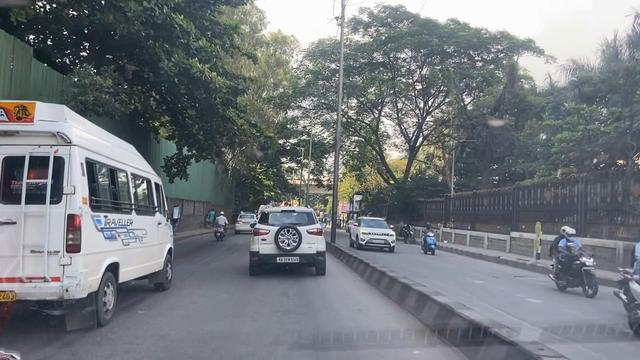HMV: (0, 99, 183, 321)
LMV: (238, 199, 329, 279)
